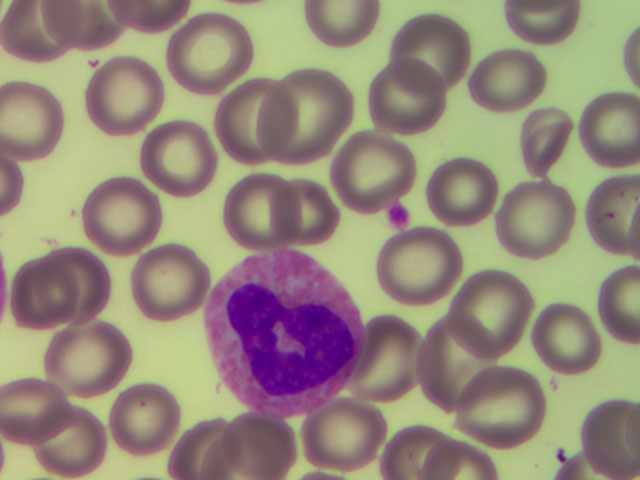Platelets: (384, 200, 415, 229)
RBC: (82, 53, 170, 141), (164, 8, 252, 96), (207, 80, 295, 168), (262, 69, 350, 157), (140, 115, 228, 203), (78, 172, 166, 260), (124, 234, 212, 322), (44, 242, 132, 330), (4, 257, 92, 345), (48, 310, 136, 398), (26, 392, 114, 480), (90, 374, 178, 462), (146, 392, 234, 480), (213, 392, 301, 480), (295, 392, 383, 480), (344, 316, 432, 404), (374, 225, 462, 313), (277, 178, 365, 266), (223, 169, 311, 257), (329, 115, 417, 203), (356, 65, 444, 153), (377, 13, 465, 101), (474, 35, 562, 123), (498, 87, 586, 175), (493, 179, 581, 267), (430, 154, 518, 242), (455, 259, 543, 347), (420, 321, 508, 409), (459, 364, 547, 452), (532, 298, 620, 386), (1, 351, 88, 439), (1, 80, 88, 168), (573, 395, 640, 480)
WBC: (202, 247, 367, 417)
